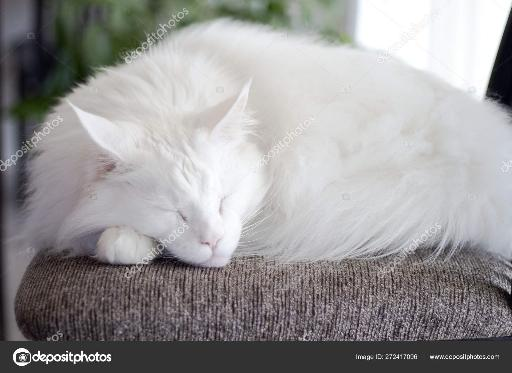cat_sleeping: (0, 19, 512, 267), (260, 150, 275, 166)
